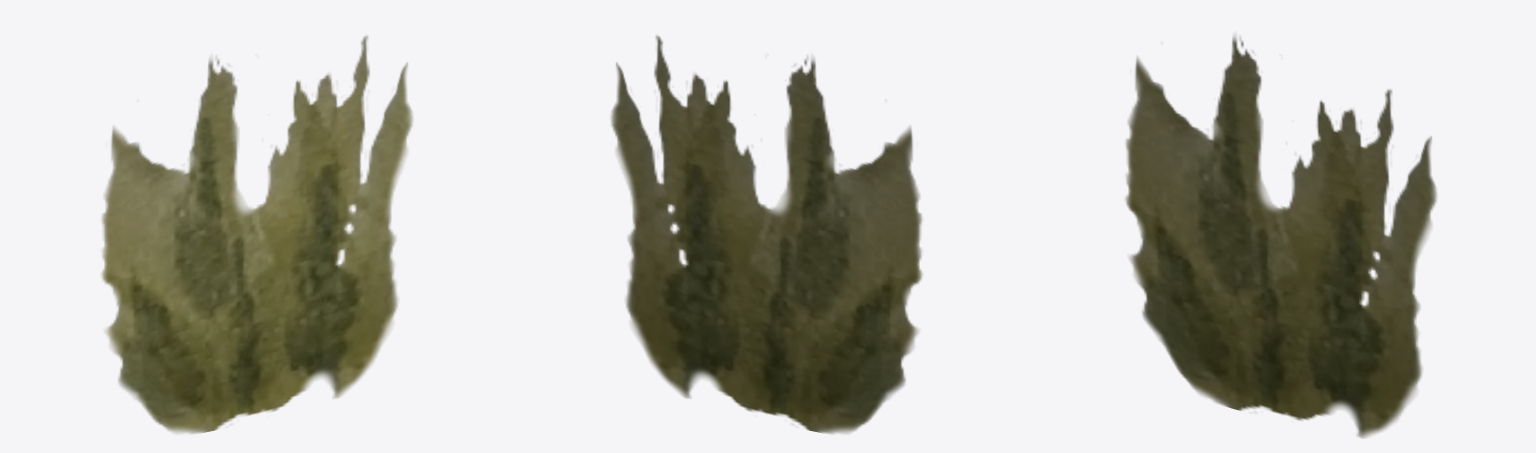
File: HERBE-L.glb
3 renders of one model, left to right at view 1: azimuth 30°, elevation 25°; view 2: azimuth 150°, elevation 25°; view 3: azimuth 330°, elevation 25°, orthographic.
Visible parts, largest first — view 1: Plane; view 2: Plane; view 3: Plane.
Boxes of the visible parts, x1,y1,x2,y2 form: Plane: (101, 35, 412, 433); Plane: (611, 35, 922, 433); Plane: (1125, 35, 1436, 438).
Bounding box in the file's own units: 1.4 × 1.1 × 1.32e-08.
Materials: 1 (1 with a texture image).
